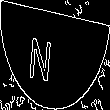N_N: (42, 27, 68, 83)
